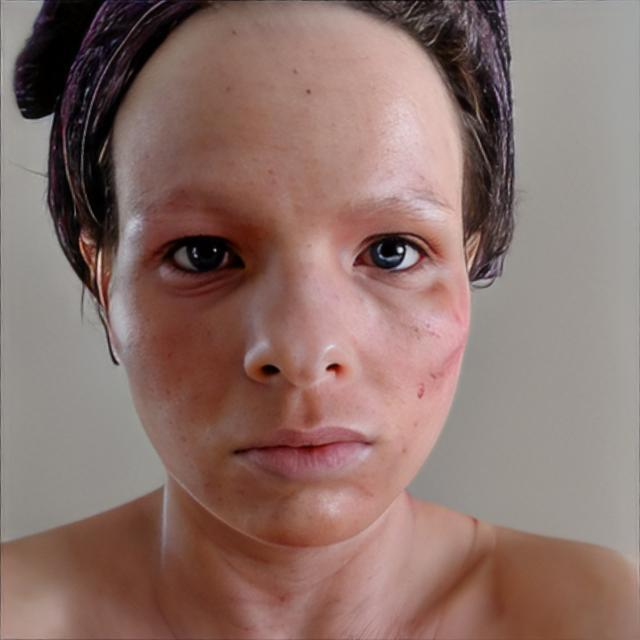neutral: (103, 0, 476, 554)
